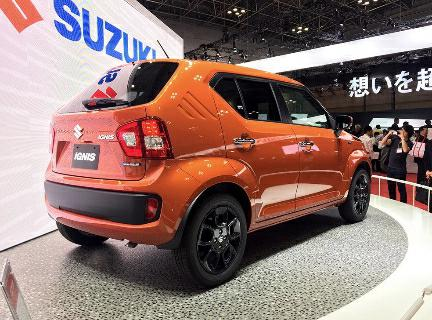铃木-英格尼斯: (36, 54, 384, 291)
